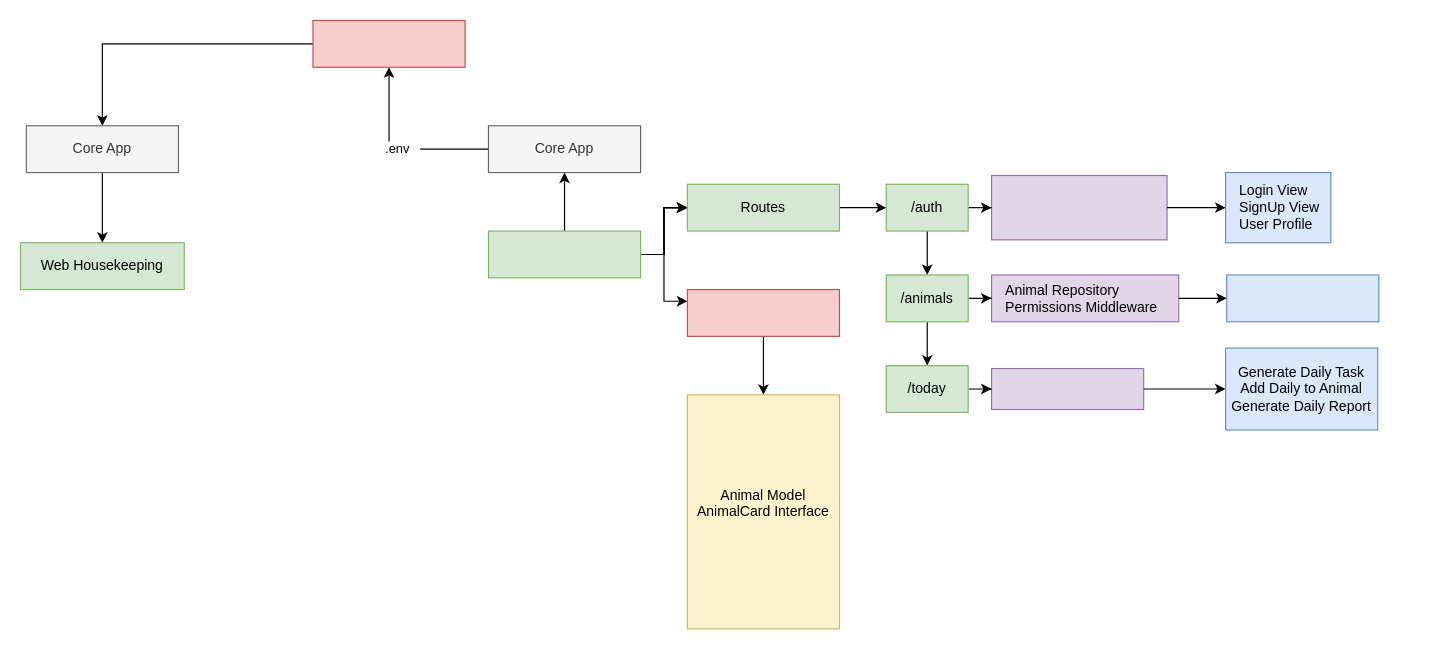
Some shapes in this 1436 by 649 pixel diagram are drawn without their labels. The shapes that lost their labels are listed below. From the top down, each one's box as (x1, y1, x2, y2) in pixels, then its label:
(312, 19, 465, 67): Supabase API
(990, 174, 1167, 240): Auth Middleware Login/Sign Up Role Based Premissions
(487, 230, 641, 278): Flutter App
(686, 288, 839, 336): Dependency Injection
(1226, 274, 1379, 322): Animal CRUD List by type
(990, 367, 1144, 410): Milk Repository Animal Relation
